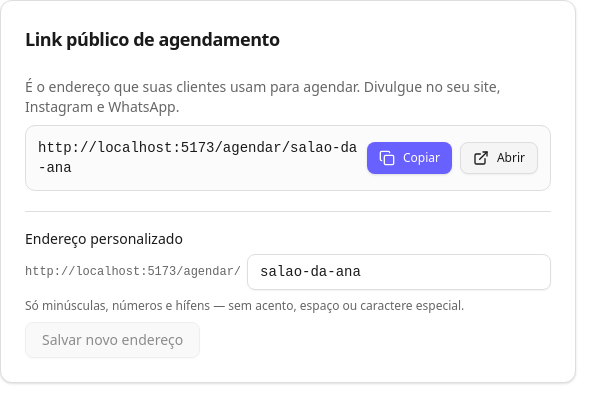
Test: PublicLinkCard › mostra o endereço e copia sem seleção manual
The image size is (593, 401).
Expected: the text "http://localhost:5173/agendar/salao-da-ana" is shown, [38,138,359,178]
Click the button "Copiar": (409, 158) [367,142,452,174]
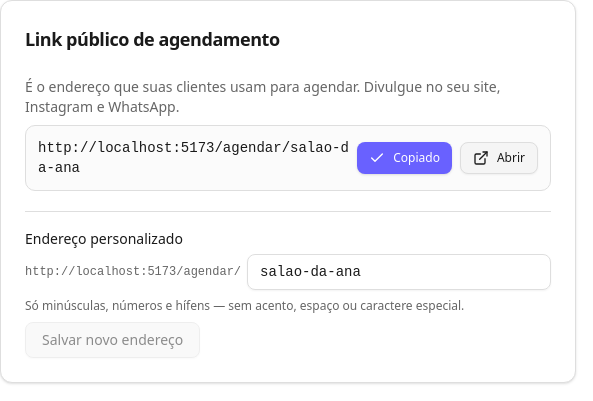
Expected: the button "Copiado" is shown, [357,142,452,174]
